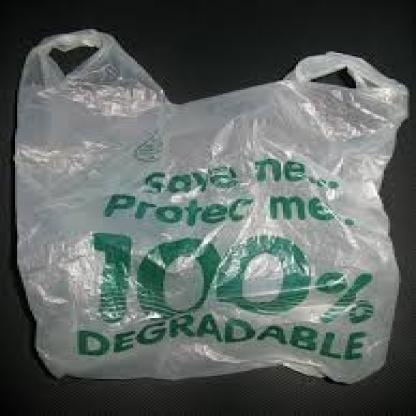trash: (16, 29, 407, 382)
